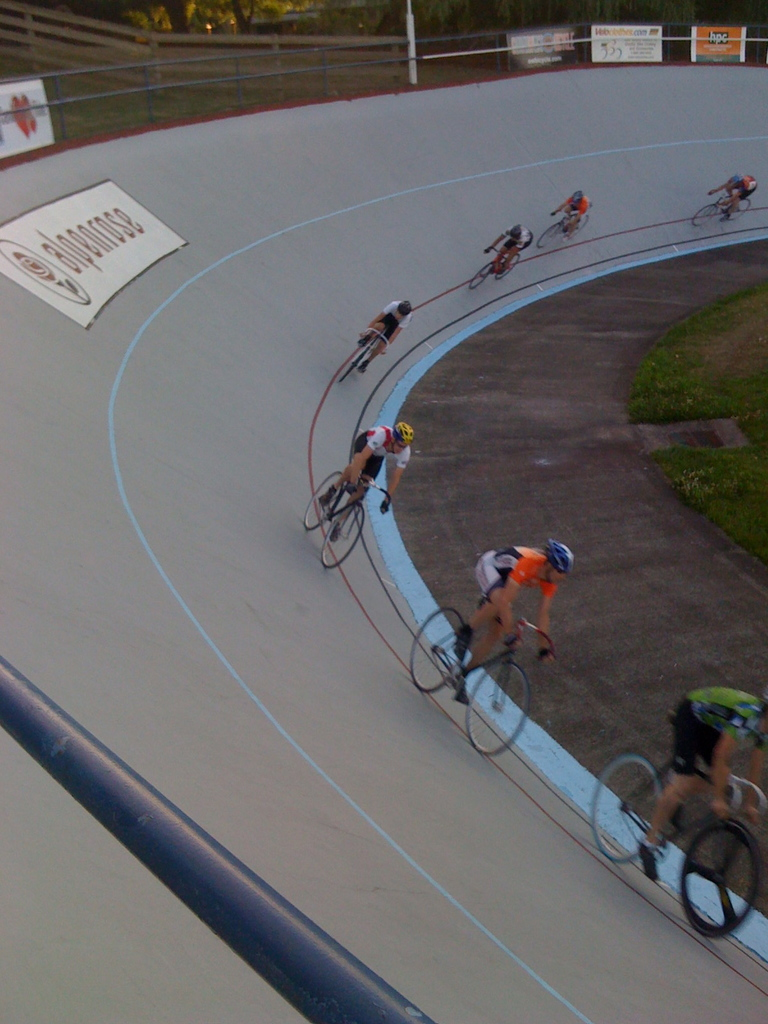Person: (652, 688, 768, 882), (452, 536, 577, 706), (318, 421, 415, 539), (357, 297, 415, 371), (488, 222, 537, 279), (708, 174, 759, 217), (546, 186, 588, 233)
